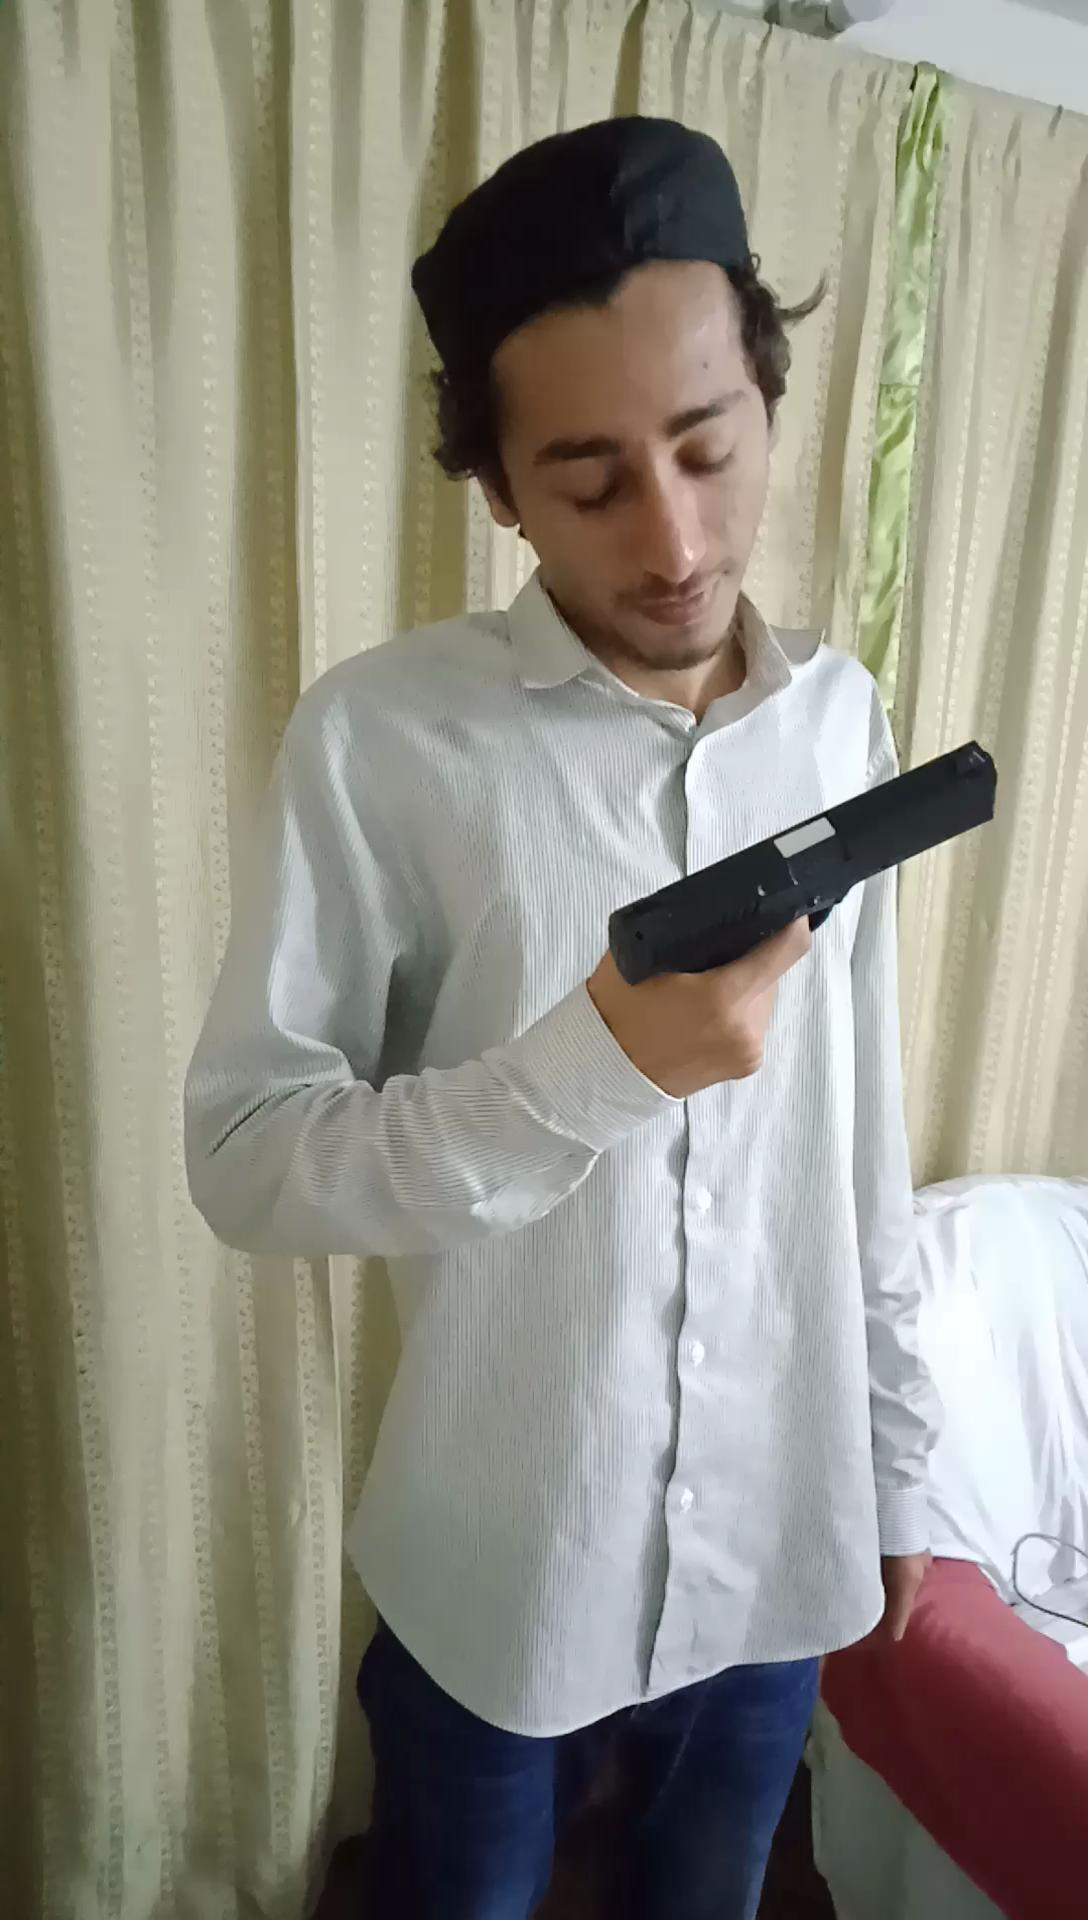criminal: (181, 105, 1015, 1920)
weapon: (596, 721, 1012, 1036)
